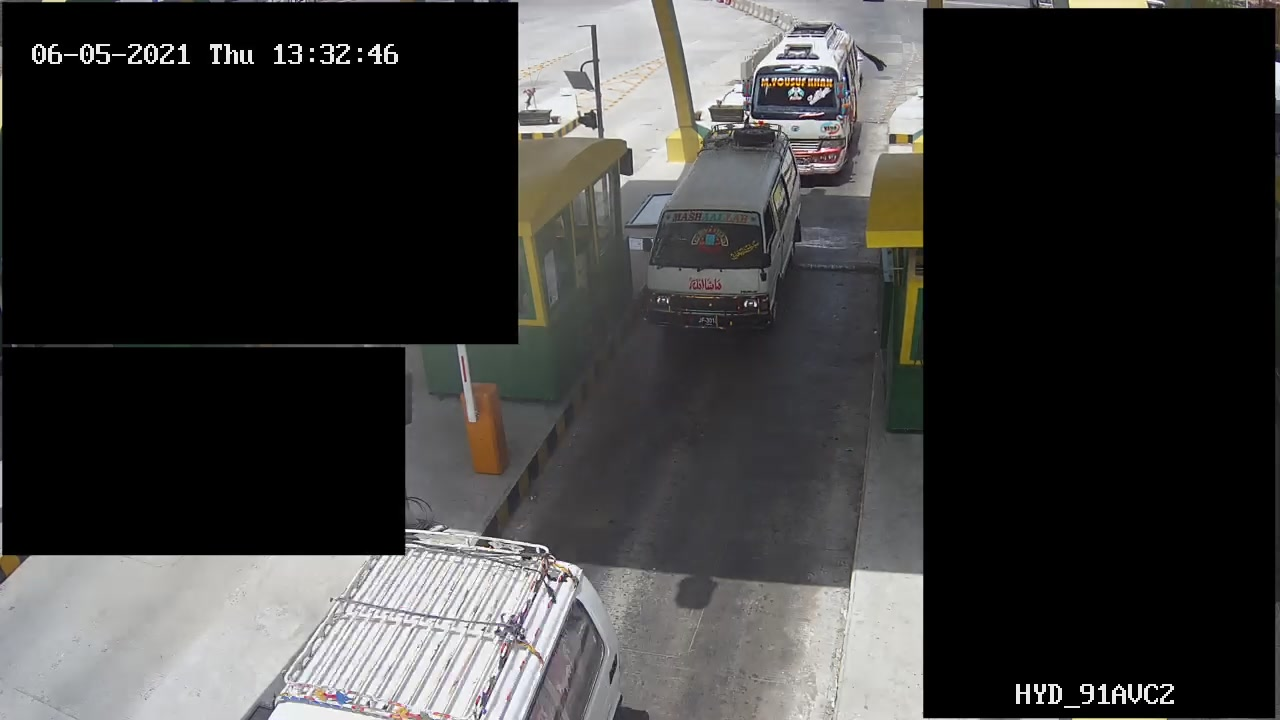F2: (636, 120, 804, 347)
